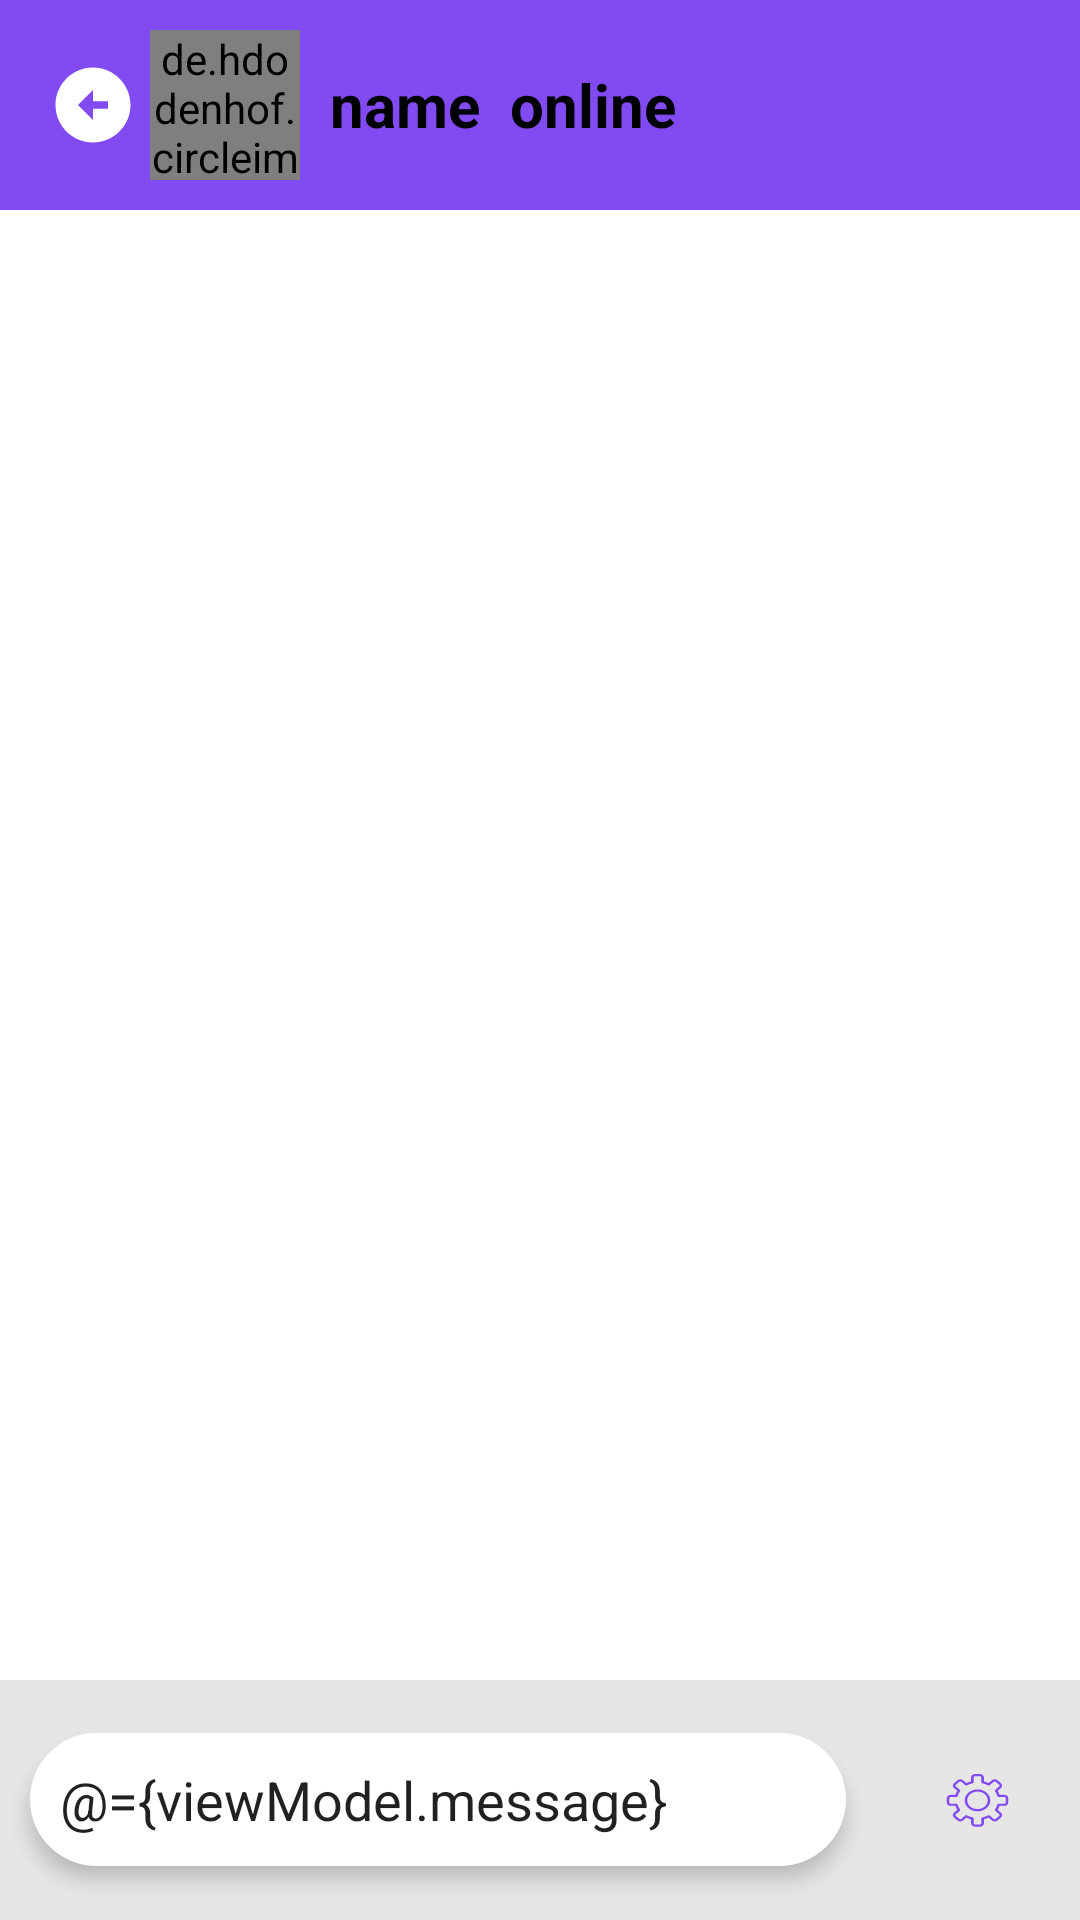

Screen size 1080px x 1920px. Icon name, then its box in pixels as (x1, y1, x2, y2):
arrow backk: (55, 67, 131, 143)
settings: (946, 1774, 1009, 1827)
